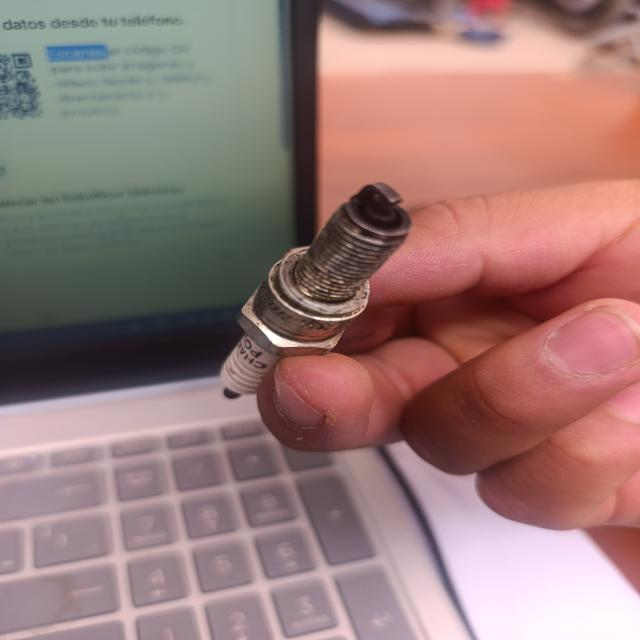bujia: (220, 183, 411, 397)
